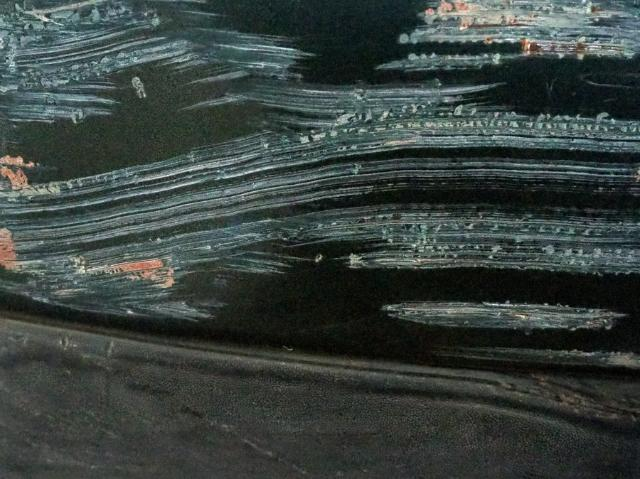Fender: (0, 4, 640, 368)
